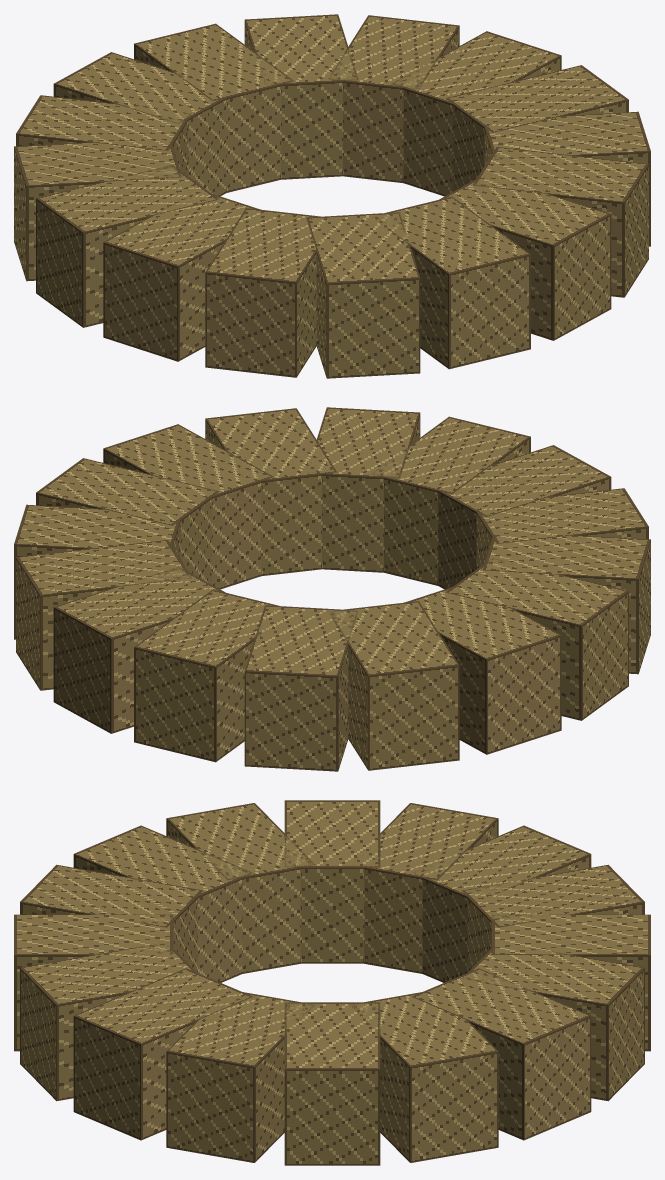
Rendered from cordage.glb.
The picture shows the model from 3 angles, top to bottom: view 1: azimuth 30°, elevation 25°; view 2: azimuth 150°, elevation 25°; view 3: azimuth 270°, elevation 25°; orthographic projection.
Parts seen in each view (by area): view 1: cordage; view 2: cordage; view 3: cordage.
Boxes of the visible parts, left/top/right/bottom form: cordage: left=14, top=14, right=650, bottom=378; cordage: left=14, top=407, right=650, bottom=771; cordage: left=14, top=800, right=650, bottom=1165.
Size of the model in its own units: 0.12 by 0.02 by 0.12.
1 material, 1 textured.
